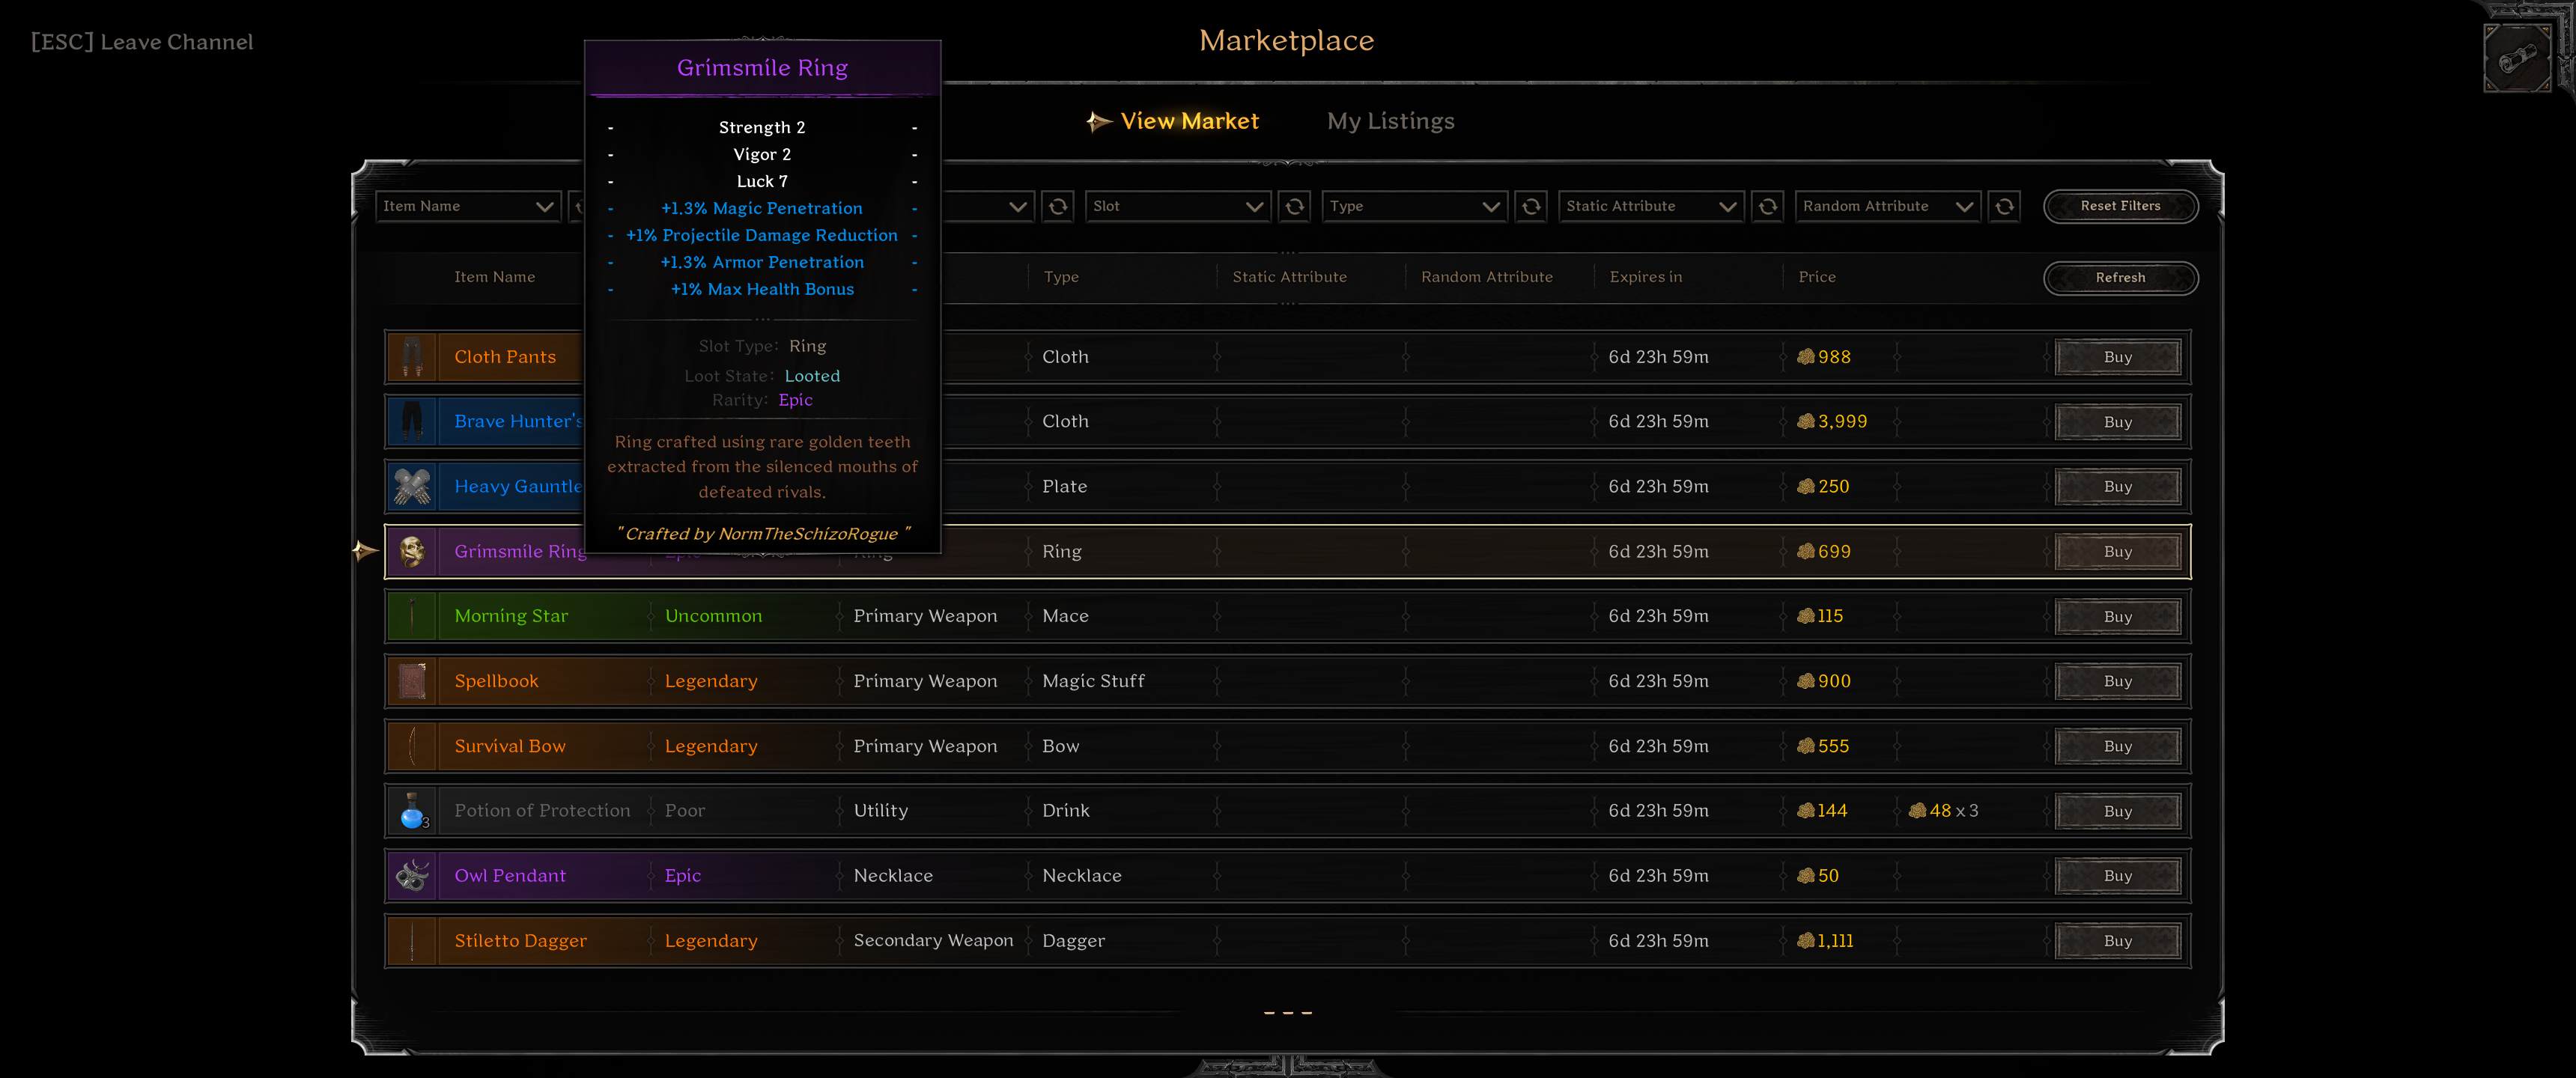Tooltip: (583, 38, 943, 555)
